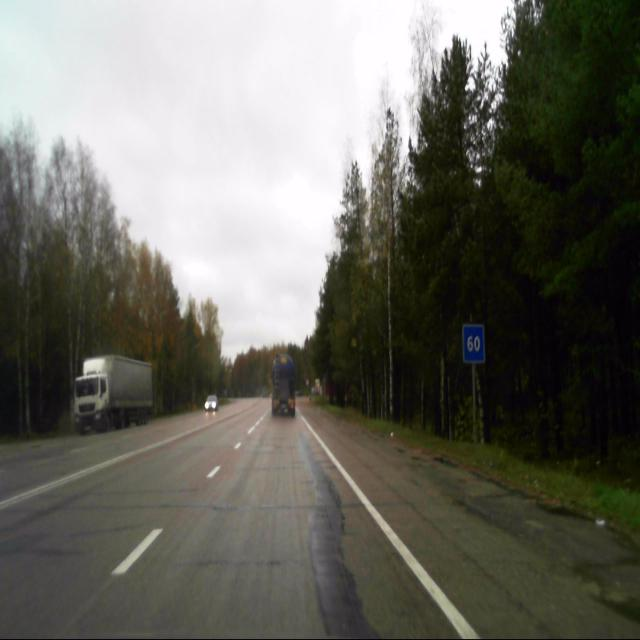road sign: (462, 326, 484, 366)
